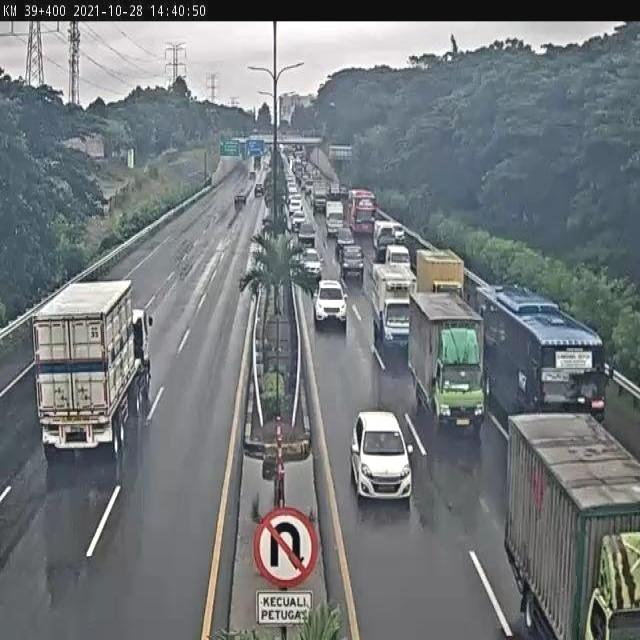Bus: (473, 282, 616, 436)
Car: (350, 411, 415, 505), (313, 280, 347, 331), (338, 242, 366, 282), (300, 248, 324, 279), (336, 227, 356, 257), (298, 222, 316, 246), (291, 209, 307, 233), (393, 222, 406, 244), (289, 199, 301, 214), (255, 182, 264, 196)
Truck: (504, 411, 640, 640), (31, 281, 156, 459), (407, 289, 490, 430), (371, 261, 417, 352), (415, 247, 471, 304), (349, 190, 376, 234), (323, 201, 346, 235), (312, 184, 328, 214)
Van: (384, 244, 412, 272)
